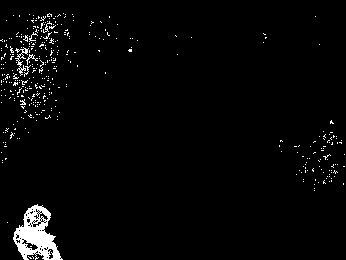person: (11, 203, 62, 260)
